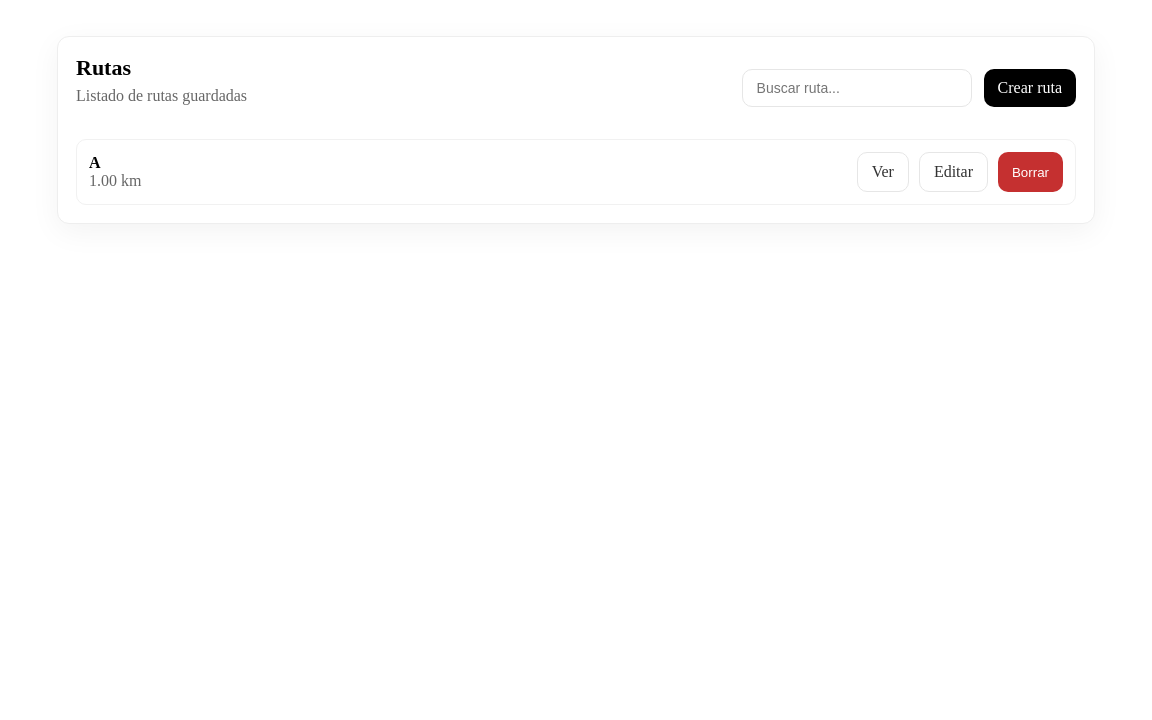
Test: Borrar rutas (modal) — lista y detalle › Lista: error en delete muestra mensaje de error
What coordinates should you click on to do the following:
click the button with class "danger"
I would click on:
 (1030, 172)
Its box is x1=998 y1=152 x2=1063 y2=192.
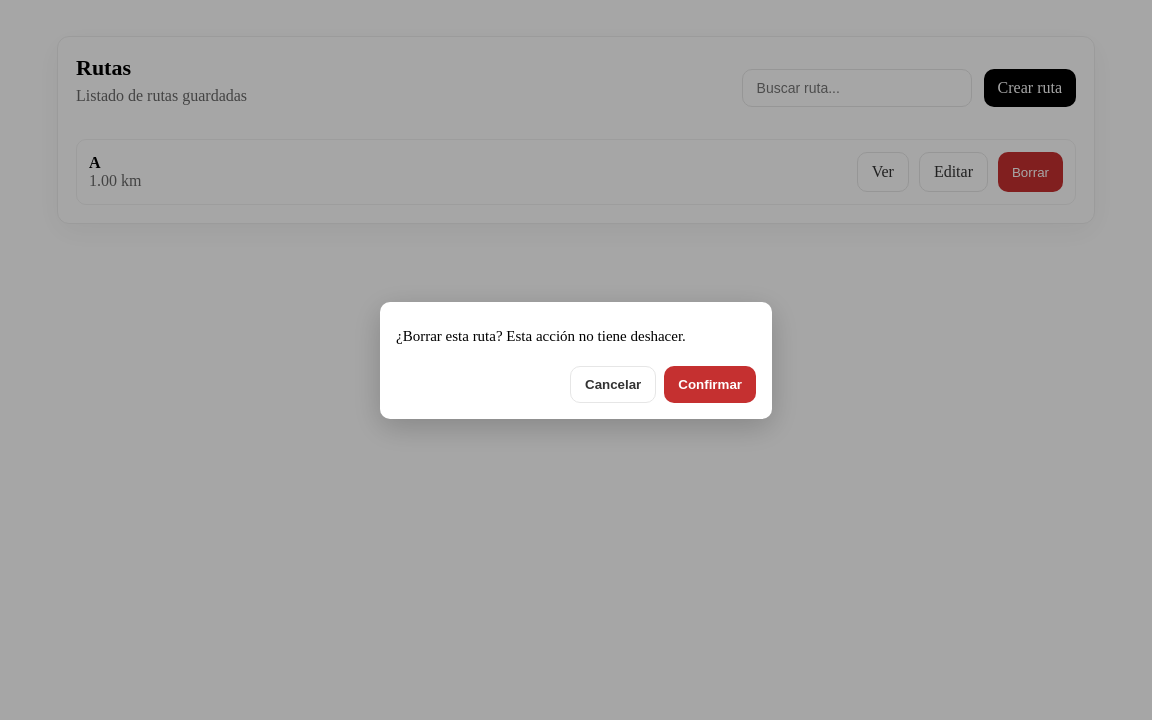
What coordinates should you click on to do the following:
click the button with class "danger" showing "Confirmar"
I would click on:
 (710, 384)
Its box is x1=664 y1=366 x2=756 y2=402.
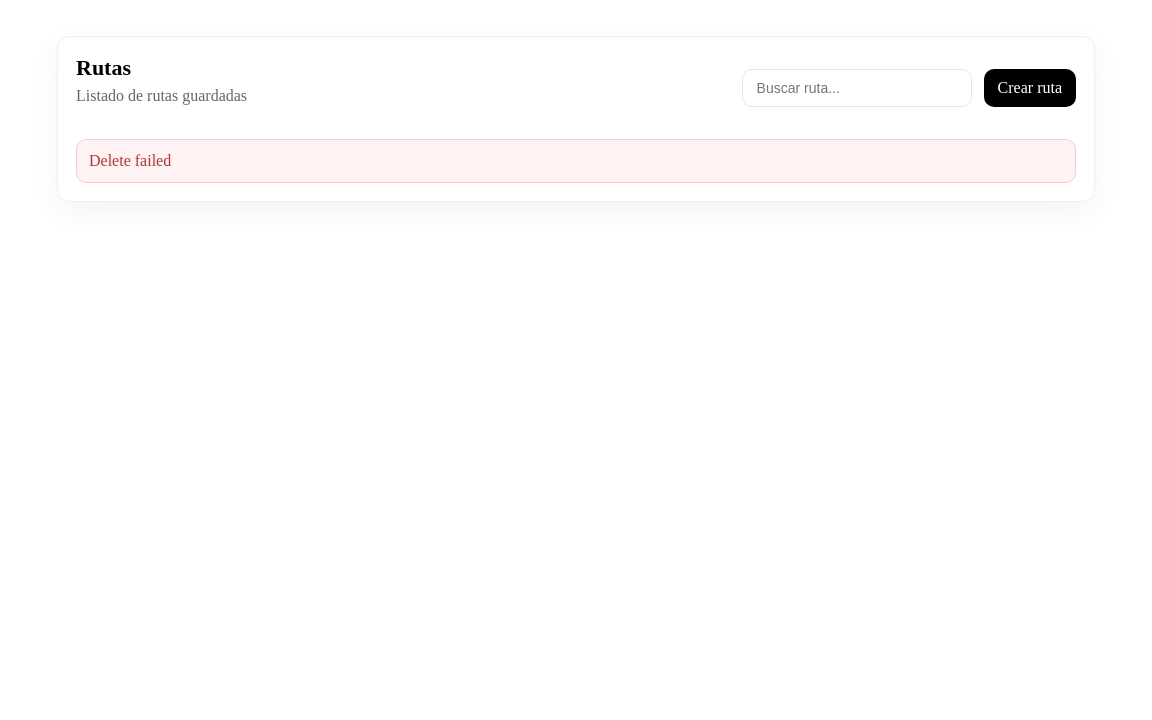
Now the text "Delete failed" is shown, box x1=76 y1=139 x2=1076 y2=183
Now the text with class "error-box" reads "Delete failed", box x1=89 y1=152 x2=171 y2=169
